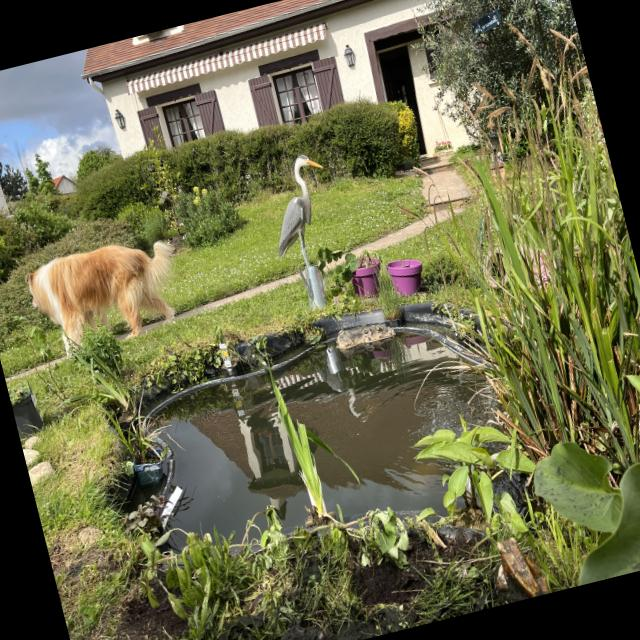Dog: (6, 218, 202, 390)
Heron: (246, 140, 356, 292)
